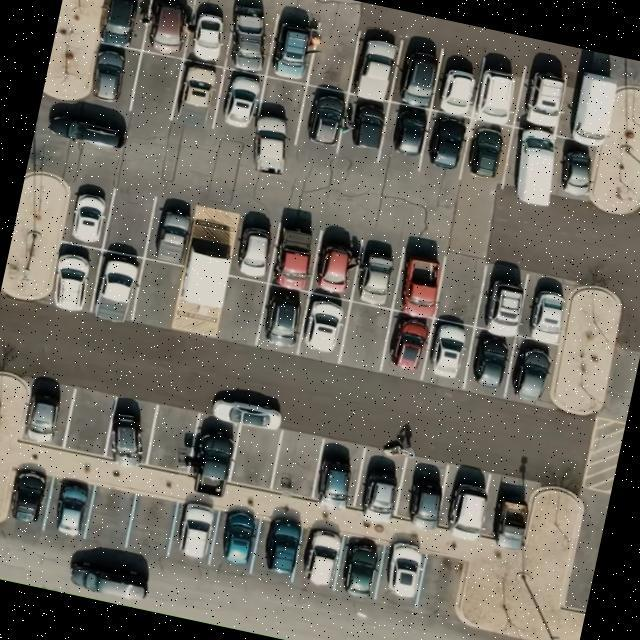space-empty: (304, 18, 362, 94), (432, 250, 489, 326), (100, 184, 158, 258), (268, 428, 326, 502), (411, 552, 471, 623), (128, 52, 183, 126), (60, 386, 116, 458), (147, 402, 199, 478), (337, 300, 393, 370), (123, 490, 177, 560), (214, 275, 268, 344), (132, 258, 186, 326), (82, 484, 136, 550), (228, 420, 278, 491)
space-occupied: (248, 75, 308, 164), (502, 126, 565, 206), (512, 59, 577, 136), (556, 69, 617, 147), (437, 464, 497, 542), (264, 12, 326, 86), (349, 445, 408, 522), (393, 454, 452, 530), (344, 31, 406, 103), (470, 52, 529, 126), (349, 234, 406, 310), (251, 508, 308, 584), (227, 209, 284, 284), (185, 416, 242, 491), (392, 242, 448, 318), (62, 177, 119, 251), (308, 436, 364, 511), (474, 261, 530, 336), (86, 248, 144, 320), (458, 116, 516, 188), (17, 376, 74, 449), (268, 218, 323, 292), (165, 496, 223, 566), (308, 229, 366, 299), (420, 316, 476, 388), (375, 537, 431, 609), (170, 60, 226, 132), (331, 531, 387, 603), (516, 272, 572, 344), (208, 505, 264, 577), (101, 396, 157, 468), (388, 38, 443, 110), (478, 476, 536, 544), (378, 310, 434, 380), (296, 292, 352, 362), (418, 110, 472, 182), (502, 337, 558, 406), (288, 525, 344, 594), (183, 0, 239, 69), (254, 284, 310, 352), (47, 242, 101, 312), (548, 138, 604, 205), (295, 85, 350, 152), (461, 330, 515, 398), (376, 100, 428, 170), (143, 198, 198, 264), (222, 10, 277, 76), (212, 69, 266, 136), (430, 50, 483, 117), (42, 475, 96, 540), (86, 42, 138, 108), (1, 466, 54, 529), (338, 94, 388, 160), (141, 0, 196, 60), (95, 0, 151, 49)
